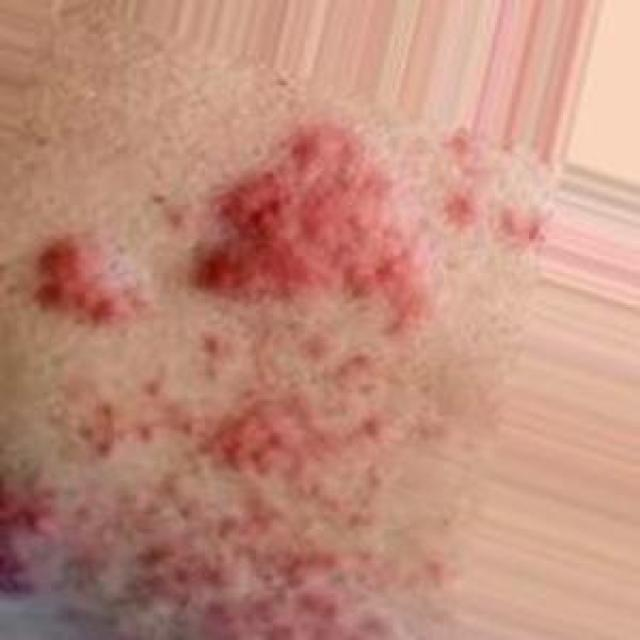Shingles: (0, 331, 457, 639), (192, 122, 435, 321), (37, 228, 153, 322)
